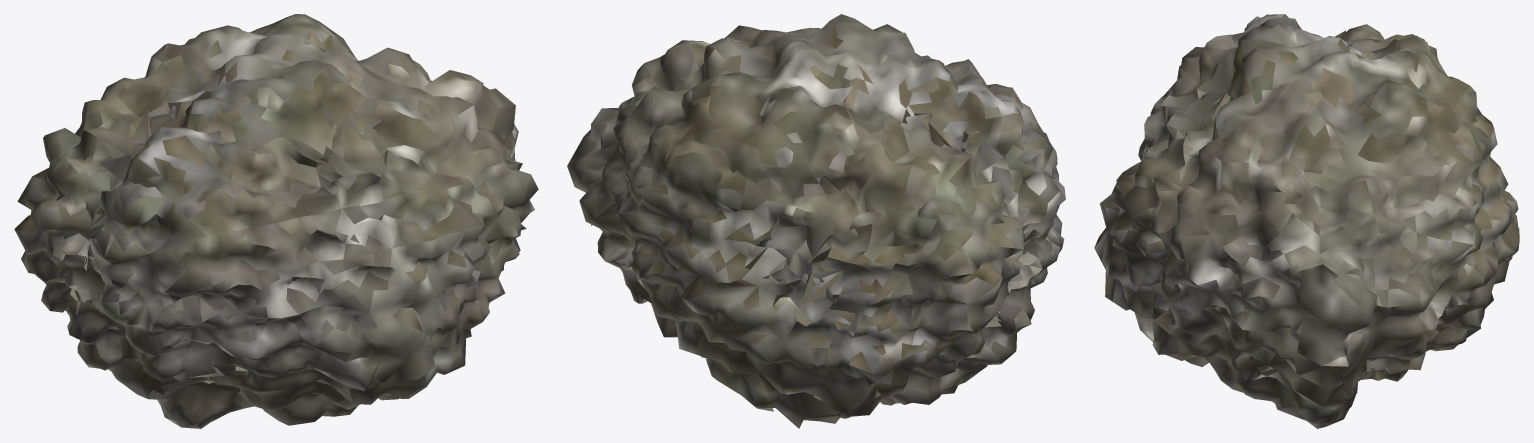
Rendered from rock.glb.
The picture shows the model from 3 angles, left to right: view 1: azimuth 30°, elevation 25°; view 2: azimuth 150°, elevation 25°; view 3: azimuth 270°, elevation 25°; orthographic projection. The views are drawn at different scales.
Visible parts, largest first — view 1: rock; view 2: rock; view 3: rock.
Part boxes in pixels (bbox=[...]): rock: bbox=[14, 14, 538, 428]; rock: bbox=[567, 14, 1065, 428]; rock: bbox=[1094, 14, 1519, 428].
Bounding box in the file's own units: 0.1019 × 0.0765 × 0.0861.
Materials: 1 (1 with a texture image).
